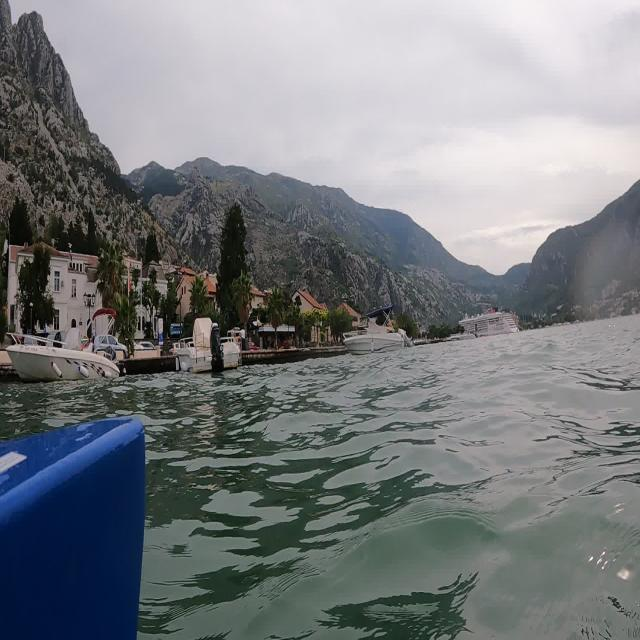boat: (8, 306, 144, 387), (167, 305, 253, 378), (331, 286, 418, 358), (447, 306, 526, 358)
